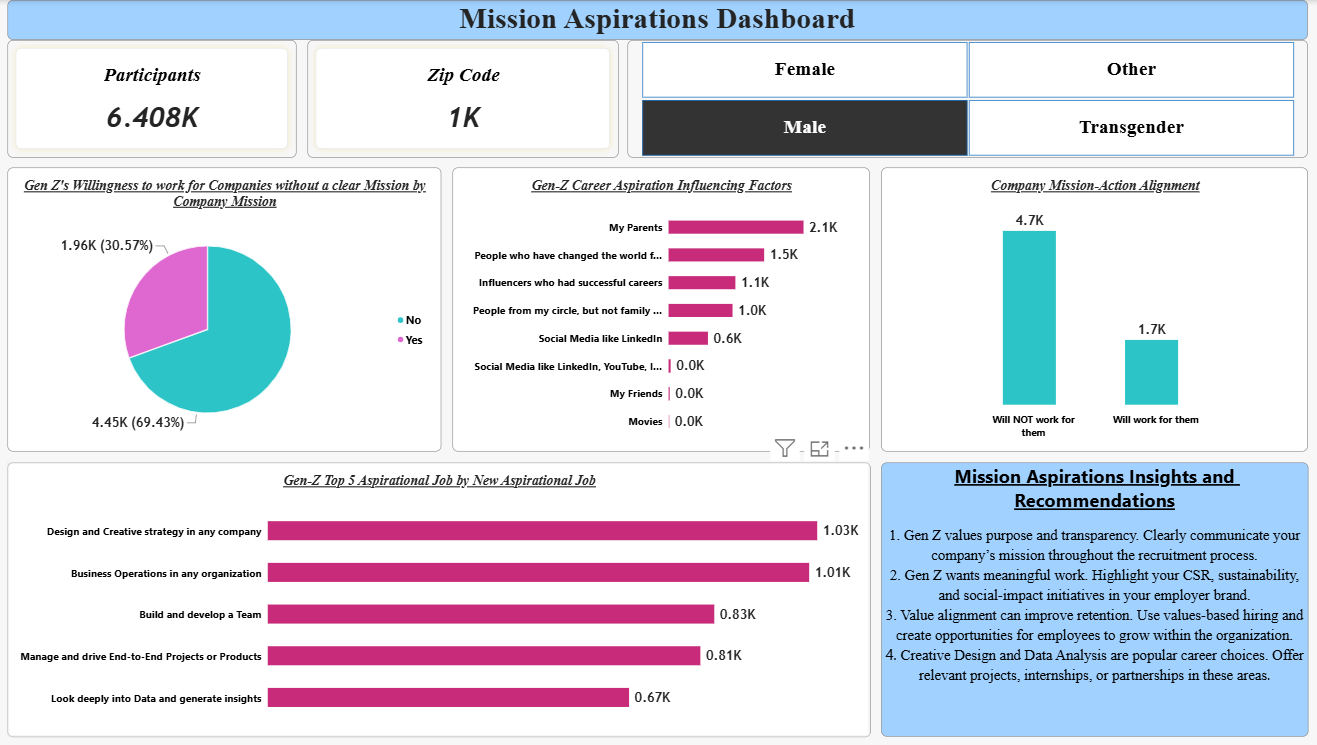

The dashboard page shown, as its layout file describes it:
{"tool":"powerbi","page":{"name":"Mission Aspirations Dashboard","canvas":[1920,1080],"ordinal":1},"visuals":[{"type":"cardVisual","fields":{"Data":["CountNonNull(Cleaned Dataset.Country)"]},"box":[17.7,61,456.5,167.2],"z":0},{"type":"cardVisual","fields":{"Data":["Measure.Total Zip Code"]},"box":[497.8,61,462.4,167.2],"z":1000},{"type":"slicer","fields":{"Values":["Cleaned Dataset.Gender"]},"box":[975.9,61,924.8,167.2],"z":2000},{"type":"pieChart","fields":{"Category":["Cleaned Dataset.Company Mission"],"Y":["CountNonNull(Cleaned Dataset.Company Mission)"]},"box":[17.7,242,627.7,411.2],"z":3000},{"type":"barChart","title":"Gen-Z Career Aspiration Influencing Factors","fields":{"Category":["Cleaned Dataset.Career Aspiration Influencing Factor"],"Y":["CountNonNull(Cleaned Dataset.Career Aspiration Influencing Factor)"]},"box":[663.1,242,604.1,411.2],"z":4000},{"type":"columnChart","title":"Company Mission-Action Alignment","fields":{"Category":["Cleaned Dataset.Company Mission-Action Alignment"],"Y":["CountNonNull(Cleaned Dataset.Company Mission-Action Alignment)"]},"box":[1282.9,242,617.8,411.2],"z":5000},{"type":"barChart","title":"Gen-Z Top 5 Aspirational Job by New Aspirational Job","fields":{"Category":["Cleaned Dataset.New Aspirational Job"],"Y":["CountNonNull(Cleaned Dataset.New Aspirational Job)"]},"box":[17.7,669,1249.4,397.5],"z":6000},{"type":"textbox","box":[1283,669,618,397],"z":7000},{"type":"textbox","box":[17.7,3.9,1883,53.1],"z":7001}]}

Visuals, with their boxes in screenshot pixels (x1, y1, x2, y2), scaled from the page's 1920x1080 canvas onto the 1317x745 screenshot:
cardVisual - CountNonNull(Cleaned Dataset.Country): box(12, 42, 325, 157)
cardVisual - Measure.Total Zip Code: box(341, 42, 659, 157)
slicer - Cleaned Dataset.Gender: box(669, 42, 1304, 157)
pieChart - Cleaned Dataset.Company Mission x CountNonNull(Cleaned Dataset.Company Mission): box(12, 167, 443, 451)
"Gen-Z Career Aspiration Influencing Factors" barChart: box(455, 167, 869, 451)
"Company Mission-Action Alignment" columnChart: box(880, 167, 1304, 451)
"Gen-Z Top 5 Aspirational Job by New Aspirational Job" barChart: box(12, 461, 869, 736)
textbox: box(880, 461, 1304, 735)
textbox: box(12, 3, 1304, 39)
